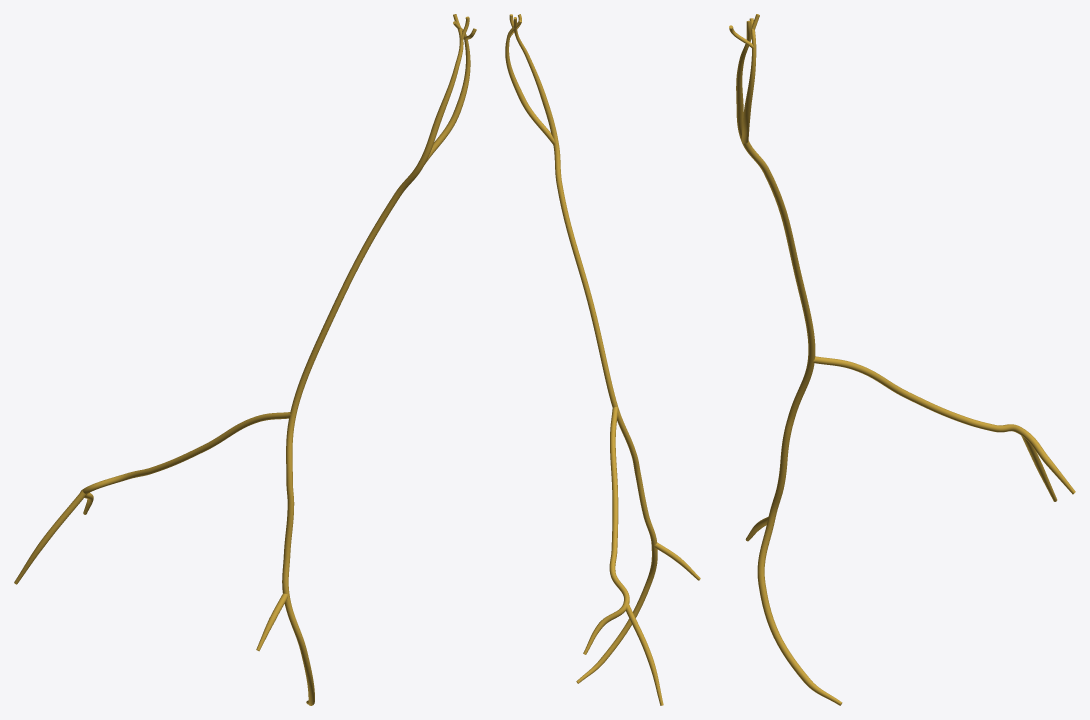
3 renders of one model, left to right at view 1: azimuth 30°, elevation 25°; view 2: azimuth 150°, elevation 25°; view 3: azimuth 270°, elevation 25°, orthographic. The views are drawn at different scales.
Parts seen in each view (by area): view 1: 右侧动眼神经; view 2: 右侧动眼神经; view 3: 右侧动眼神经.
Boxes of the visible parts, x1,y1,x2,y2 form: 右侧动眼神经: (14,14,476,705); 右侧动眼神经: (505,14,700,705); 右侧动眼神经: (729,14,1075,705).
Bounding box in the file's own units: 0.0573 × 0.1198 × 0.0503.
